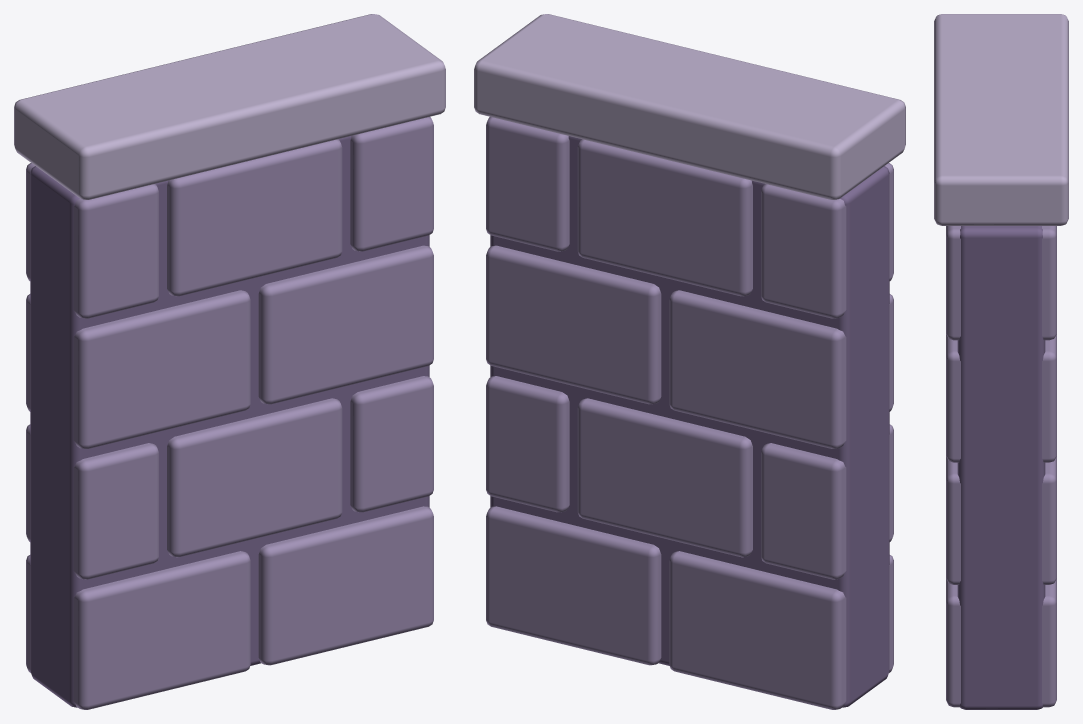
The model's file is parede.glb.
The picture shows the model from 3 angles, left to right: view 1: azimuth 30°, elevation 25°; view 2: azimuth 150°, elevation 25°; view 3: azimuth 270°, elevation 25°; orthographic projection. The views are drawn at different scales.
Parts seen in each view (by area): view 1: Tijolos; view 2: Tijolos; view 3: Tijolos.
Part boxes in pixels (x1,y1,x2,y2): Tijolos: [14, 14, 445, 709]; Tijolos: [474, 14, 905, 709]; Tijolos: [934, 14, 1068, 709].
Bounding box in the file's own units: 1 × 1.49 × 0.34.
